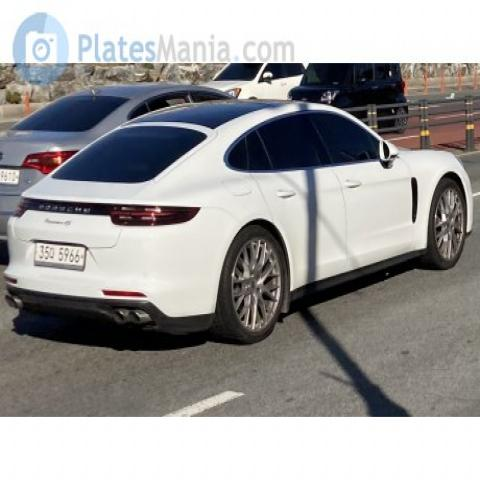LP: (24, 233, 92, 276)
